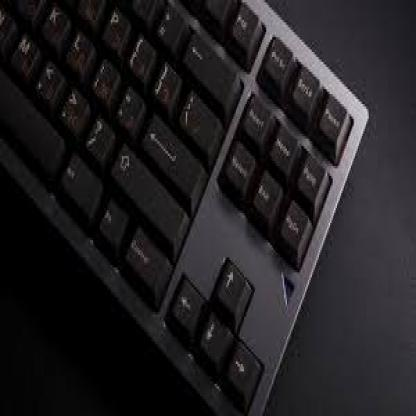keyboard: (1, 1, 318, 279)
